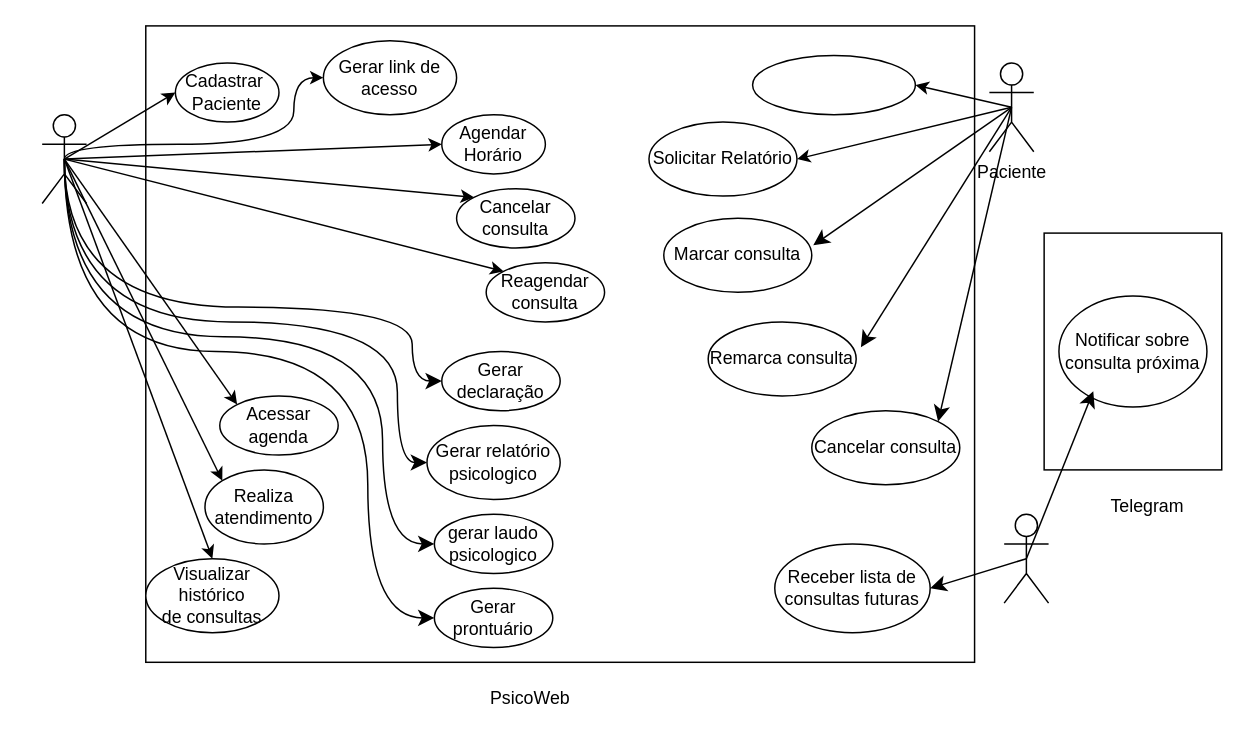
Some shapes in this 1248 by 747 pixel diagram are drawn without their labels. Each missing label, with the centre of its shape:
"BOT" goes at point 1026,558.
"Psicologo" goes at point 64,158.
"Solicitar exclusão dos dados" goes at point 833,84.
